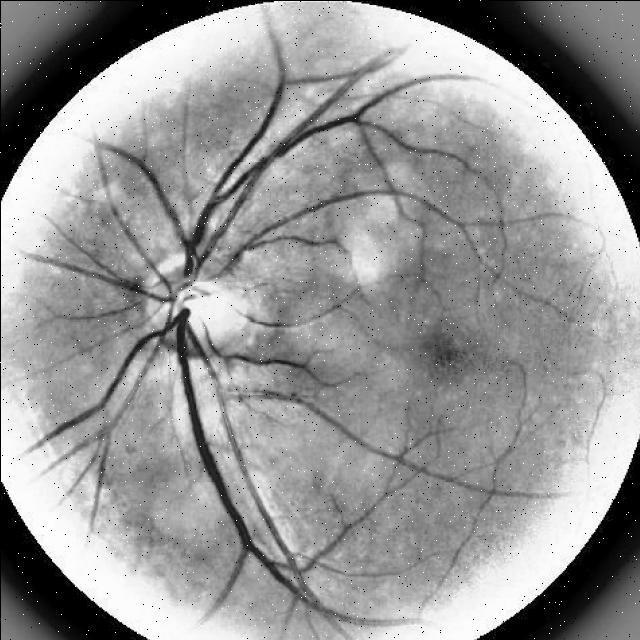Macula: (419, 325, 487, 381)
Nerves: (88, 24, 421, 287), (160, 320, 385, 628), (20, 305, 192, 458)
Optic Disk: (148, 259, 251, 348)
